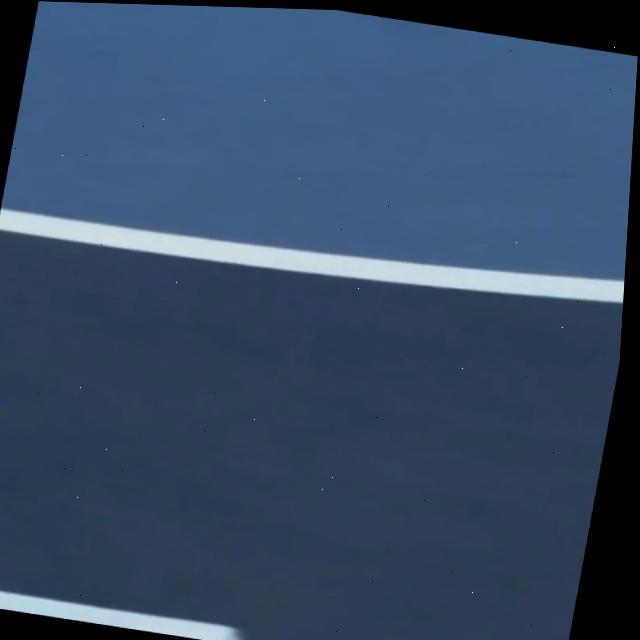center: (0, 589, 239, 640)
left: (0, 207, 625, 302)
